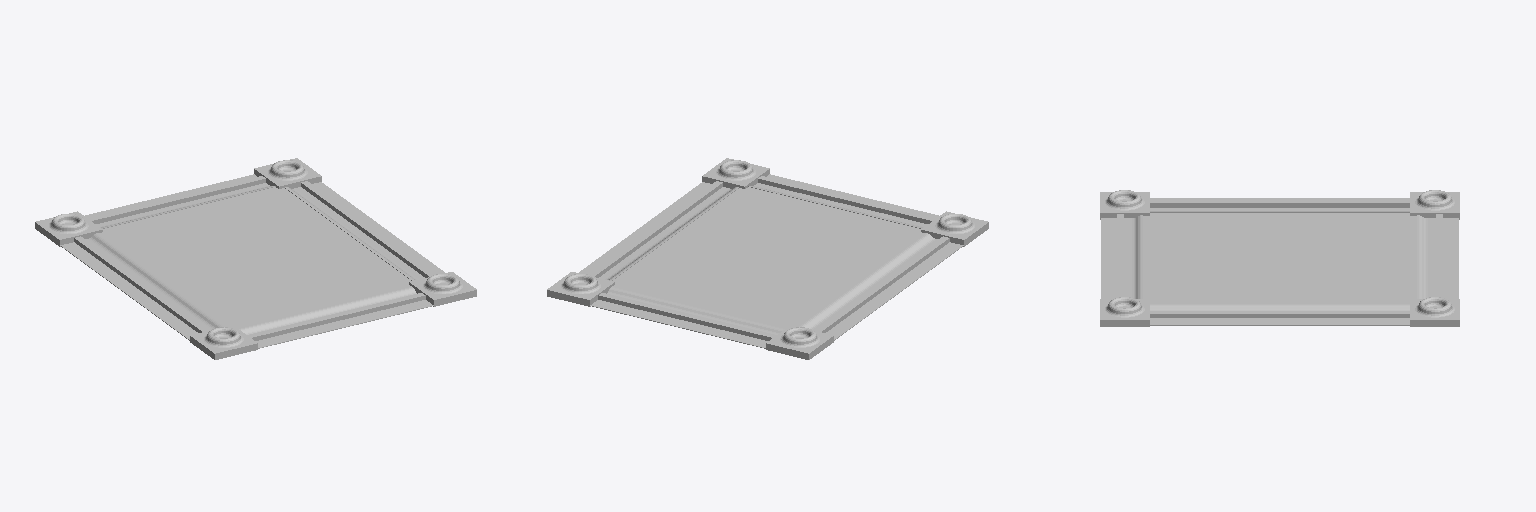
Rendered from Frame 4 3.obj.
3 views of the same model, side by side, from view 1: azimuth 30°, elevation 25°; view 2: azimuth 150°, elevation 25°; view 3: azimuth 270°, elevation 25° (orthographic).
Parts seen in each view (by area): view 1: Frame_4:3; view 2: Frame_4:3; view 3: Frame_4:3.
Boxes of the visible parts, box(x1,y1,x2,y2) form: Frame_4:3: box(35, 158, 476, 359); Frame_4:3: box(547, 158, 988, 359); Frame_4:3: box(1100, 190, 1459, 326).
Bounding box in the file's own units: 104 × 4.88 × 123.